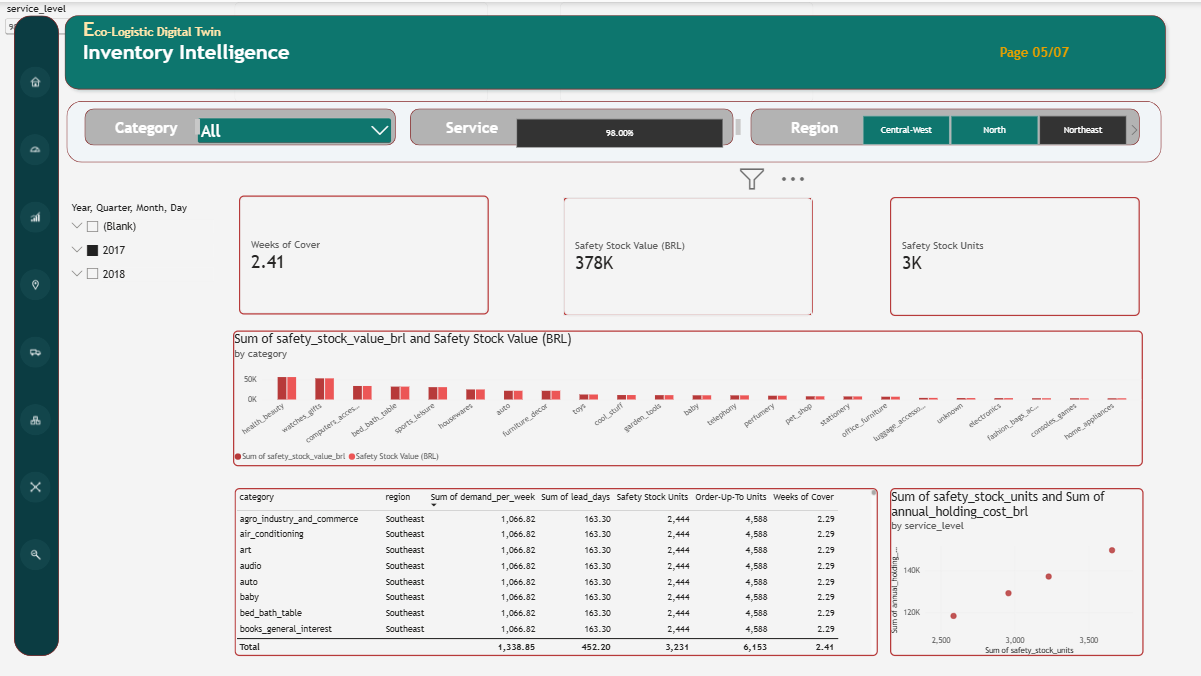

The dashboard page shown, as its layout file describes it:
{"tool":"powerbi","page":{"name":"Inventory Intelligence","canvas":[1920,1080],"ordinal":5},"visuals":[{"type":"slicer","fields":{"Values":["inventory_policy.service_level"]},"box":[10,0,291.7,198.3],"z":0},{"type":"shape","box":[112.1,157.5,1741.7,97.8],"z":0,"group":"g2"},{"type":"textbox","box":[715.8,186.1,468.8,26.4],"z":0,"group":"g4"},{"type":"shape","box":[139.6,170.5,495.3,58.7],"z":1000,"group":"g2"},{"type":"textbox","box":[1263.9,186.1,279.8,69.2],"z":1000,"group":"g4"},{"type":"cardVisual","fields":{"Data":["_Measures.Safety Stock Units"]},"box":[1422,310.2,397,189],"z":1000},{"type":"shape","box":[659.7,170.5,514.5,58.7],"z":2000,"group":"g2"},{"type":"cardVisual","fields":{"Data":["_Measures.Safety Stock Value (BRL)"]},"box":[901.9,310.2,397,189],"z":2000},{"type":"shape","box":[1199,170.5,619.1,58.7],"z":3000,"group":"g2"},{"type":"cardVisual","fields":{"Data":["_Measures.Weeks of Cover"]},"box":[386.5,307.8,397,189],"z":3000},{"type":"slicer","fields":{"Values":["demand_weekly.category"]},"box":[315.7,179.9,319.2,50.3],"z":4000,"group":"g2"},{"type":"tableEx","fields":{"Values":["demand_weekly.category","dim_region.region","Sum(inventory_policy.demand_per_week)","Sum(inventory_policy.lead_days)","_Measures.Safety Stock Units","_Measures.Order-Up-To Units","_Measures.Weeks of Cover"]},"box":[379.4,773,1023.6,267.2],"z":4000},{"type":"slicer","fields":{"Values":["demand_weekly.region"]},"box":[1358.5,179.9,459.5,50.3],"z":5000,"group":"g2"},{"type":"clusteredColumnChart","fields":{"Category":["inventory_policy.category"],"Y":["Sum(inventory_policy.safety_stock_value_brl)","_Measures.Safety Stock Value (BRL)"]},"box":[376.3,523.7,1447.4,215.8],"z":5000},{"type":"slicer","fields":{"Values":["inventory_policy.service_level"]},"box":[805.5,182.7,368.7,50.3],"z":6000,"group":"g2"},{"type":"scatterChart","fields":{"Category":["service_tradeoff.service_level"],"X":["Sum(service_tradeoff.safety_stock_units)"],"Y":["Sum(service_tradeoff.annual_holding_cost_brl)"]},"box":[1422,773,403.2,267.2],"z":6000},{"type":"cardVisual","fields":{"Data":["_Measures.Order-Up-To Units"]},"box":[380,0,403,160],"z":7000},{"type":"shape","box":[100,11.1,1769.4,136.1],"z":7000,"group":"g1"},{"type":"textbox","box":[188.1,185,136,33.4],"z":7000,"group":"g2"},{"type":"cardVisual","fields":{"Data":["Sum(service_tradeoff.annual_holding_cost_brl)"]},"box":[897,0,403,160],"z":8000},{"type":"textbox","box":[138.9,22.2,1758.3,113.9],"z":8000,"group":"g1"},{"type":"group","id":"g1","title":"Group 2","box":[100,11.1,1797.2,136.1],"z":9000},{"type":"group","id":"g2","title":"Group 3","box":[112.1,157.5,1741.7,97.8],"z":10000},{"type":"group","id":"g3","title":"Group 4","box":[28.6,21.5,71.6,1018.8],"z":11000},{"type":"slicer","fields":{"Values":["dim_date.date_id.Variation.Date Hierarchy.Year","dim_date.date_id.Variation.Date Hierarchy.Quarter","dim_date.date_id.Variation.Date Hierarchy.Month","dim_date.date_id.Variation.Date Hierarchy.Day"]},"box":[112.1,317.3,233.8,186.1],"z":12000},{"type":"textbox","box":[1244,178,198,56],"z":13000},{"type":"shape","box":[28.6,21.5,71.6,1018.8],"z":14000,"group":"g3"},{"type":"group","id":"g4","title":"Group 5","box":[715.8,186.1,827.9,69.2],"z":14000},{"type":"textbox","box":[1519.4,66.7,263.9,55.6],"z":16000,"group":"g1"},{"type":"actionButton","box":[38.8,103.3,48.9,49.7],"z":17000,"group":"g5"},{"type":"actionButton","box":[38.8,853.7,48.9,49.7],"z":21000,"group":"g5"},{"type":"actionButton","box":[38.8,746.6,48.9,49.7],"z":22000,"group":"g5"},{"type":"actionButton","box":[38.7,639.1,49.2,50],"z":23000,"group":"g5"},{"type":"actionButton","box":[38.8,532,48.9,49.7],"z":24000,"group":"g5"},{"type":"actionButton","box":[38.8,317.8,48.9,49.7],"z":25000,"group":"g5"},{"type":"actionButton","box":[38.8,424.9,48.9,49.7],"z":26000,"group":"g5"},{"type":"actionButton","box":[39.6,210.4,47.4,50],"z":27000,"group":"g5"},{"type":"group","id":"g5","title":"Group 1","box":[38.7,103.3,49.2,800.1],"z":27001,"group":"g3"}]}

Visuals, with their boxes on the page's 1920x1080 design canvas (x1, y1, x2, y2). These are canvas units, not pixel positions in the 1201x676 screenshot, which may show the page scaled, cropped or inside an application window:
slicer - inventory_policy.service_level: Rect(10, 0, 302, 198)
shape: Rect(112, 158, 1854, 255)
textbox: Rect(716, 186, 1185, 212)
shape: Rect(140, 170, 635, 229)
textbox: Rect(1264, 186, 1544, 255)
cardVisual - _Measures.Safety Stock Units: Rect(1422, 310, 1819, 499)
shape: Rect(660, 170, 1174, 229)
cardVisual - _Measures.Safety Stock Value (BRL): Rect(902, 310, 1299, 499)
shape: Rect(1199, 170, 1818, 229)
cardVisual - _Measures.Weeks of Cover: Rect(386, 308, 784, 497)
slicer - demand_weekly.category: Rect(316, 180, 635, 230)
tableEx - demand_weekly.category x dim_region.region: Rect(379, 773, 1403, 1040)
slicer - demand_weekly.region: Rect(1358, 180, 1818, 230)
clusteredColumnChart - inventory_policy.category x Sum(inventory_policy.safety_stock_value_brl): Rect(376, 524, 1824, 740)
slicer - inventory_policy.service_level: Rect(806, 183, 1174, 233)
scatterChart - service_tradeoff.service_level x Sum(service_tradeoff.safety_stock_units): Rect(1422, 773, 1825, 1040)
cardVisual - _Measures.Order-Up-To Units: Rect(380, 0, 783, 160)
shape: Rect(100, 11, 1869, 147)
textbox: Rect(188, 185, 324, 218)
cardVisual - Sum(service_tradeoff.annual_holding_cost_brl): Rect(897, 0, 1300, 160)
textbox: Rect(139, 22, 1897, 136)
"Group 2" group: Rect(100, 11, 1897, 147)
"Group 3" group: Rect(112, 158, 1854, 255)
"Group 4" group: Rect(29, 22, 100, 1040)
slicer - dim_date.date_id.Variation.Date Hierarchy.Year x dim_date.date_id.Variation.Date Hierarchy.Quarter: Rect(112, 317, 346, 503)
textbox: Rect(1244, 178, 1442, 234)
shape: Rect(29, 22, 100, 1040)
"Group 5" group: Rect(716, 186, 1544, 255)
textbox: Rect(1519, 67, 1783, 122)
actionButton: Rect(39, 103, 88, 153)
actionButton: Rect(39, 854, 88, 903)
actionButton: Rect(39, 747, 88, 796)
actionButton: Rect(39, 639, 88, 689)
actionButton: Rect(39, 532, 88, 582)
actionButton: Rect(39, 318, 88, 368)
actionButton: Rect(39, 425, 88, 475)
actionButton: Rect(40, 210, 87, 260)
"Group 1" group: Rect(39, 103, 88, 903)
